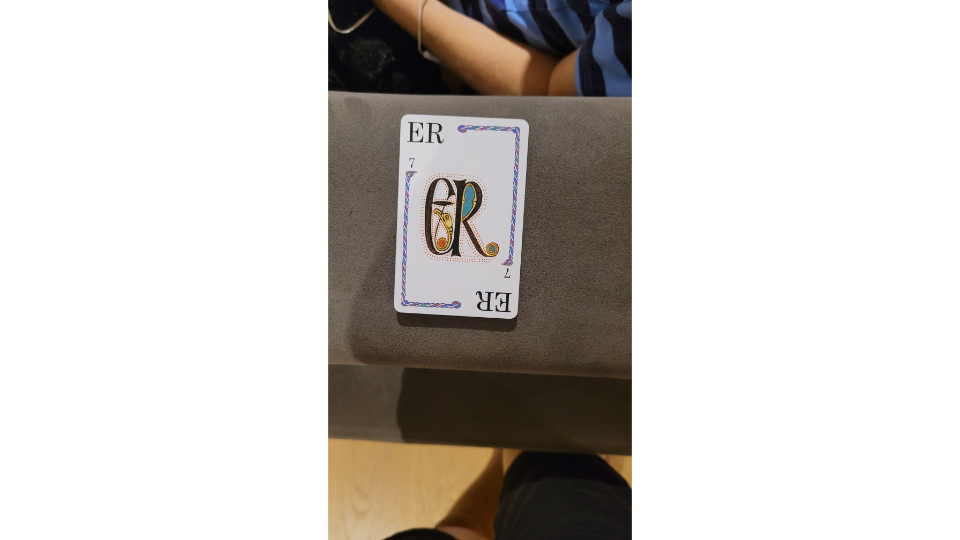ER: (389, 110, 533, 326)
